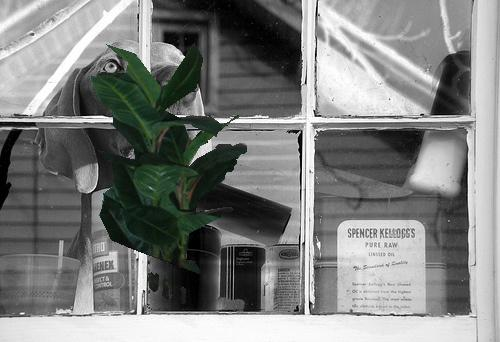tampered: (91, 44, 247, 304)
